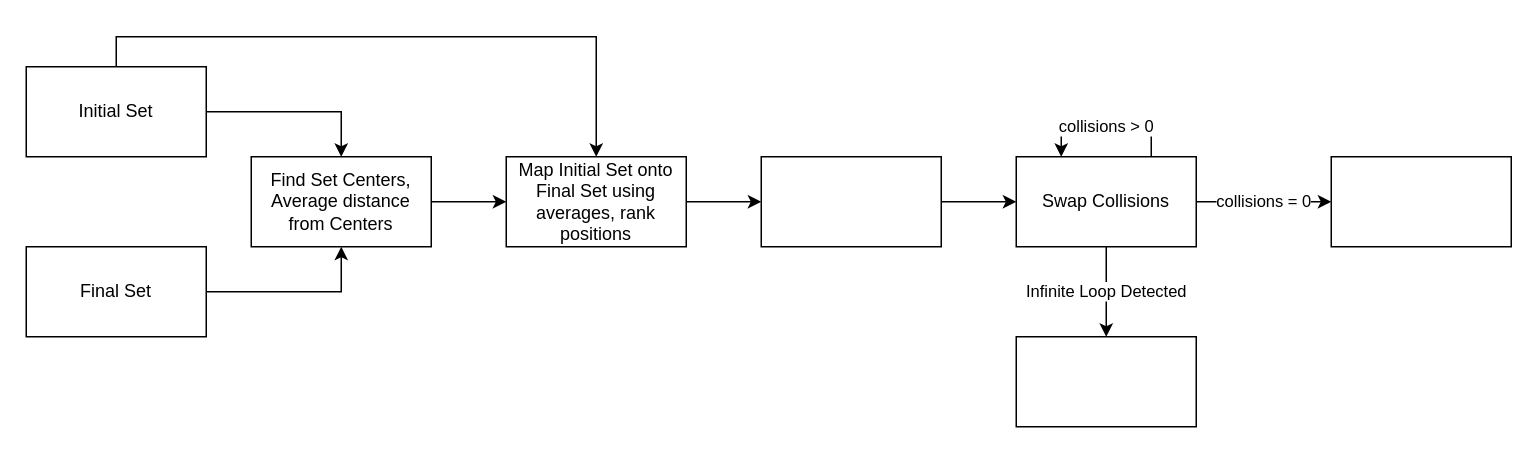
Some shapes in this 1538 by 453 pixel diagram are drawn without their labels. Each missing label, with the box of its shape:
Allocation: (760, 155, 941, 247)
Reasonable Transition from Initial to Final: (1330, 155, 1511, 247)
Transition with least collisions, show warning: (1015, 335, 1196, 427)
